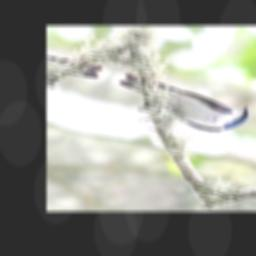Swallow: (101, 70, 256, 139)
